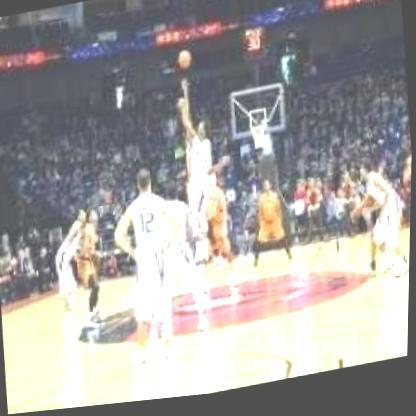basketball: (174, 50, 196, 75)
